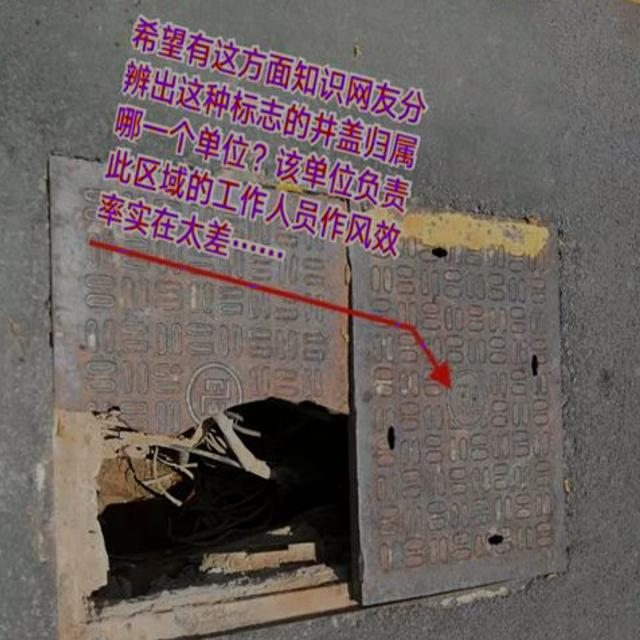broke: (13, 140, 603, 640)
